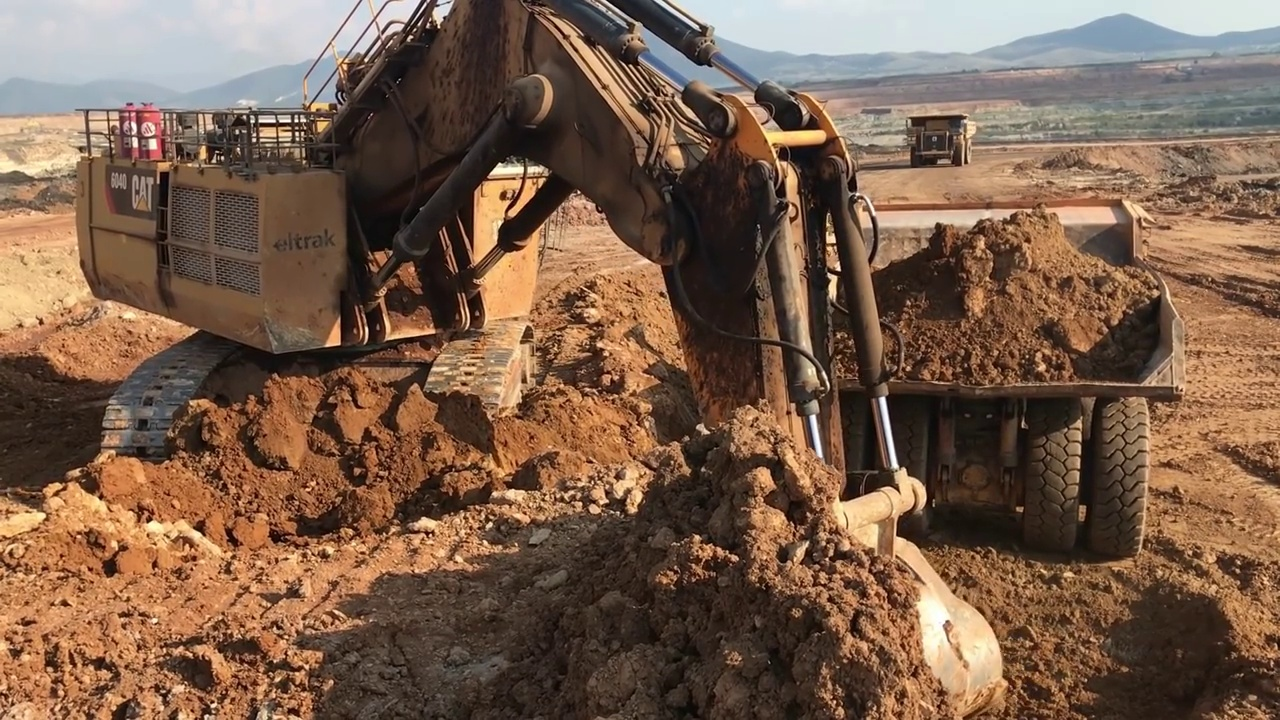dumper: (814, 198, 1186, 562), (901, 112, 976, 163)
excavator: (77, 3, 1002, 720)
